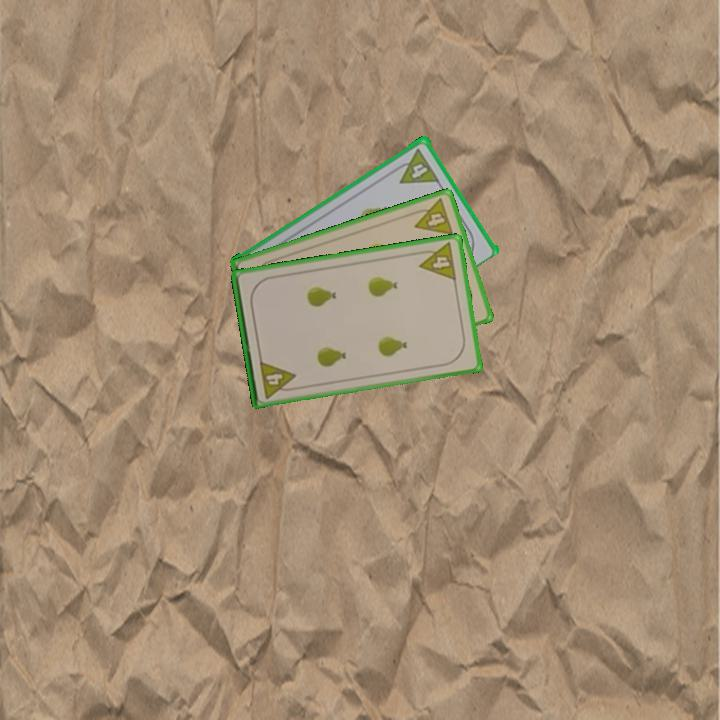4p: (390, 144, 442, 187), (407, 195, 456, 238), (414, 239, 459, 283), (256, 357, 300, 401)
